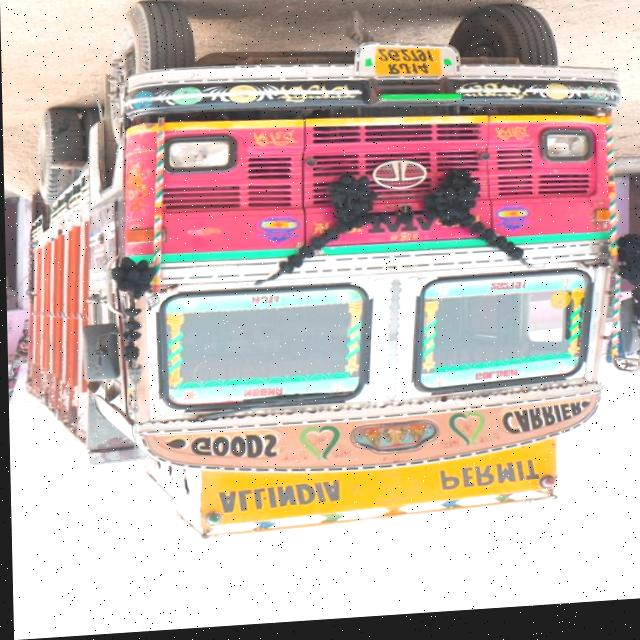plate: (372, 50, 444, 90)
